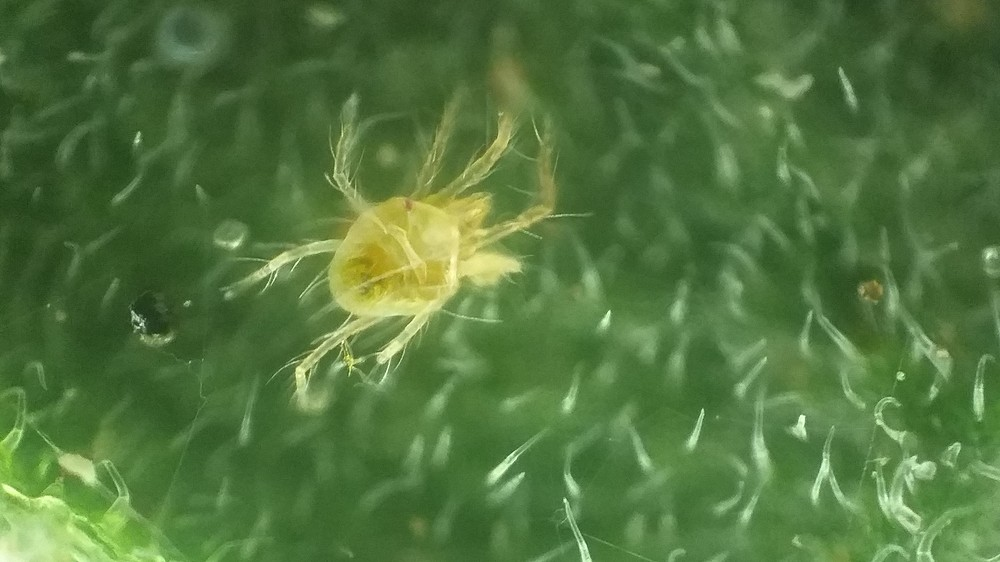Aracnido Rojo: (201, 71, 616, 410)
